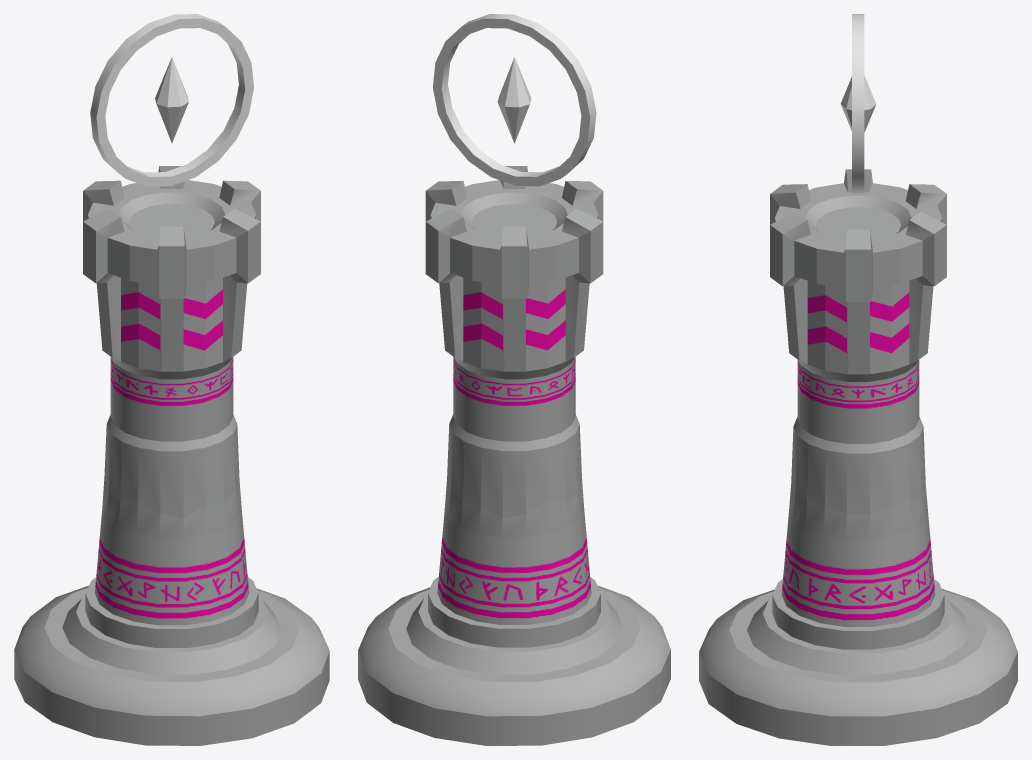
The model's file is Special_Turret.fbx.
3 views of the same model, side by side, from view 1: azimuth 30°, elevation 25°; view 2: azimuth 150°, elevation 25°; view 3: azimuth 270°, elevation 25° (orthographic).
Visible parts, largest first — view 1: Cylinder001, Object001, Tube001, Hedra002; view 2: Cylinder001, Object001, Tube001, Hedra002; view 3: Cylinder001, Object001, Tube001, Hedra002.
Part boxes in pixels (bbox=[...]): Cylinder001: bbox=[14, 477, 329, 745]; Object001: bbox=[83, 166, 260, 518]; Tube001: bbox=[90, 14, 253, 186]; Hedra002: bbox=[155, 57, 188, 142]; Cylinder001: bbox=[358, 477, 670, 745]; Object001: bbox=[425, 166, 603, 518]; Tube001: bbox=[433, 14, 596, 186]; Hedra002: bbox=[497, 57, 531, 143]; Cylinder001: bbox=[699, 484, 1017, 745]; Object001: bbox=[770, 169, 946, 514]; Tube001: bbox=[852, 14, 864, 193]; Hedra002: bbox=[840, 75, 876, 132].
Bounding box in the file's own units: 34.83 × 82.62 × 36.2.
Materials: 1 (1 with a texture image).
